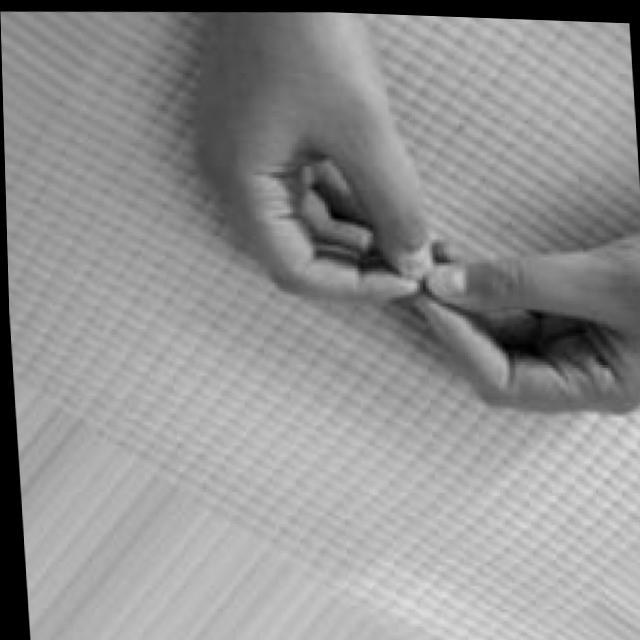B: (195, 7, 640, 432)
